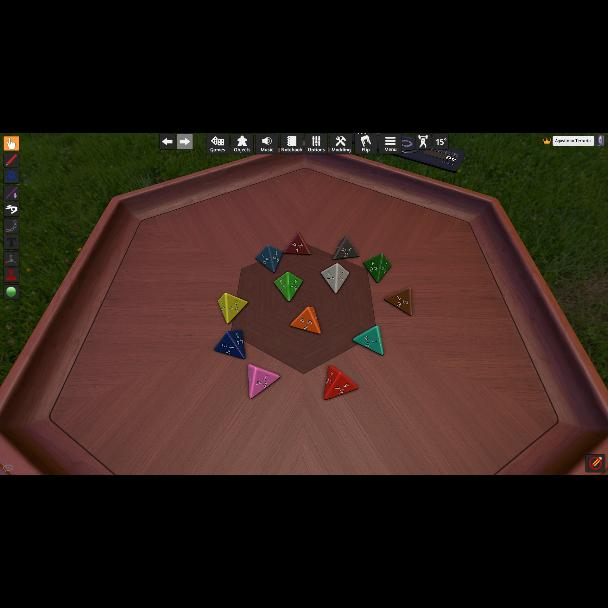d4: (322, 366, 356, 400), (248, 364, 280, 399), (352, 325, 383, 355), (218, 294, 247, 324), (273, 272, 301, 302), (214, 330, 244, 358), (320, 264, 347, 294), (256, 246, 284, 274), (364, 254, 390, 284), (290, 308, 320, 334), (384, 286, 410, 316), (333, 236, 359, 260), (284, 232, 310, 256)
